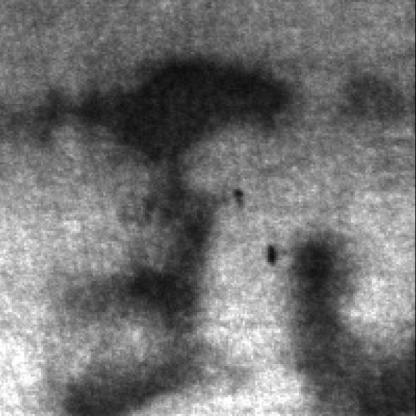patches: (29, 60, 285, 162), (285, 237, 414, 416), (92, 175, 210, 337), (56, 345, 202, 416)
